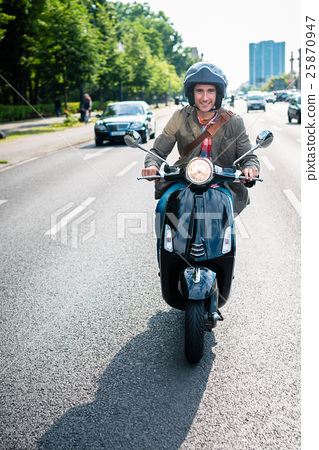helmet: (180, 61, 231, 106)
